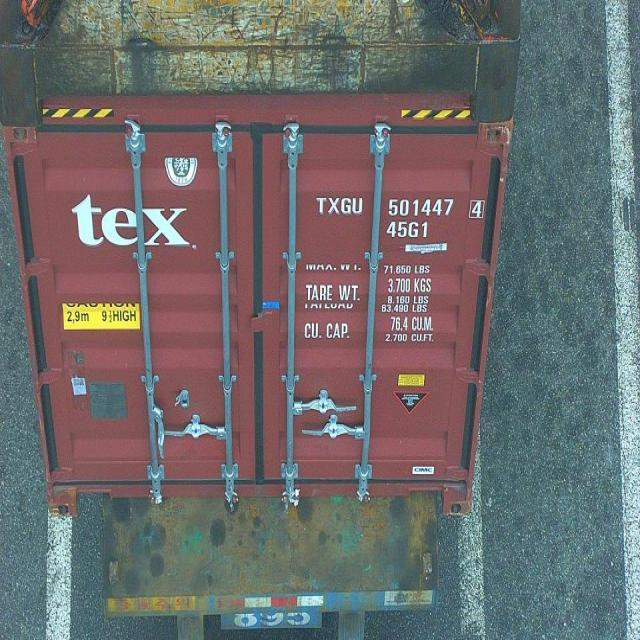ISO: (388, 220, 430, 240)
container_number: (322, 198, 480, 218)
